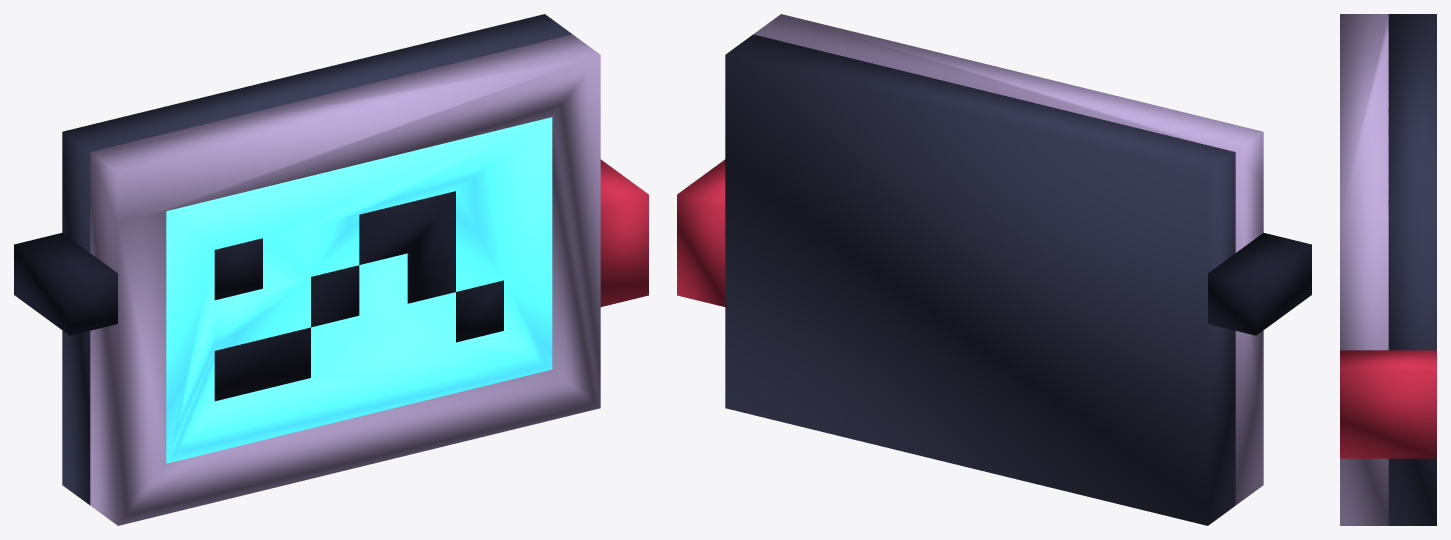
Rendered from data-pad.lod1.glb.
3 views of the same model, side by side, from view 1: azimuth 30°, elevation 25°; view 2: azimuth 150°, elevation 25°; view 3: azimuth 270°, elevation 25° (orthographic). The views are drawn at different scales.
Parts seen in each view (by area): view 1: data-pad.body; view 2: data-pad.body; view 3: data-pad.body.
Part boxes in pixels (box(x1,y1,x2,y2)): data-pad.body: box(14, 14, 648, 525); data-pad.body: box(677, 14, 1311, 525); data-pad.body: box(1340, 14, 1436, 525).
Size of the model in its own units: 0.375 by 0.2188 by 0.0625.
